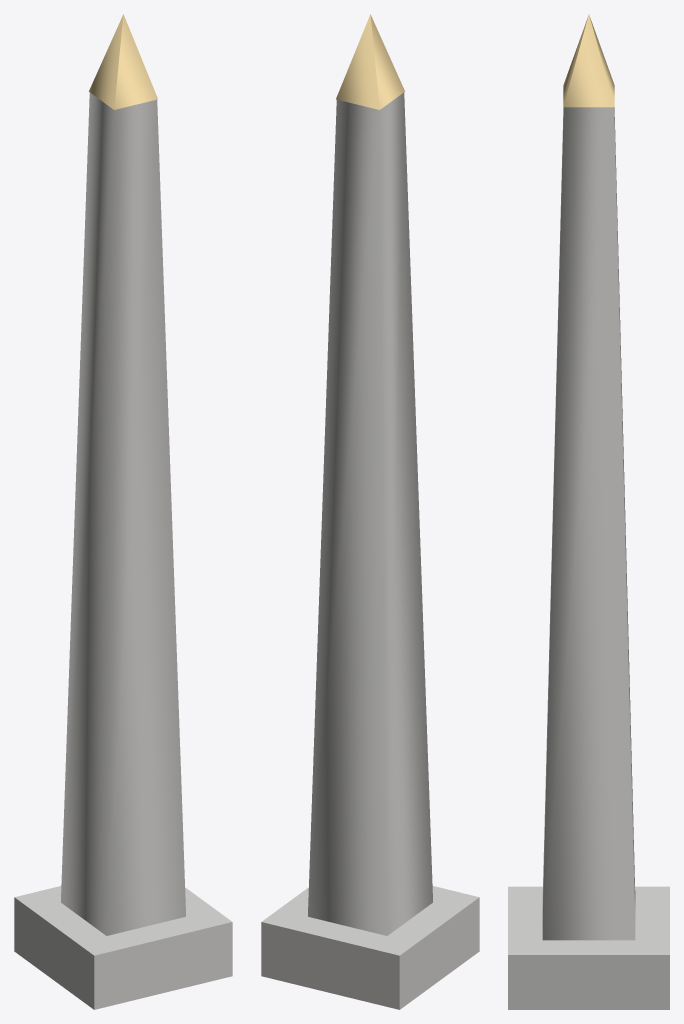
File: obelisk.glb
3 renders of one model, left to right at view 1: azimuth 30°, elevation 25°; view 2: azimuth 150°, elevation 25°; view 3: azimuth 270°, elevation 25°, orthographic.
Parts seen in each view (by area): view 1: obelisk, tip; view 2: obelisk, tip; view 3: obelisk, tip.
Part boxes in pixels (x1,y1,x2,y2): obelisk: (14,92,232,1009); tip: (89,14,157,109); obelisk: (261,92,479,1009); tip: (336,14,404,109); obelisk: (508,107,669,1009); tip: (563,14,614,107).
Size of the model in its own units: 1.6 by 10.5 by 1.6.
